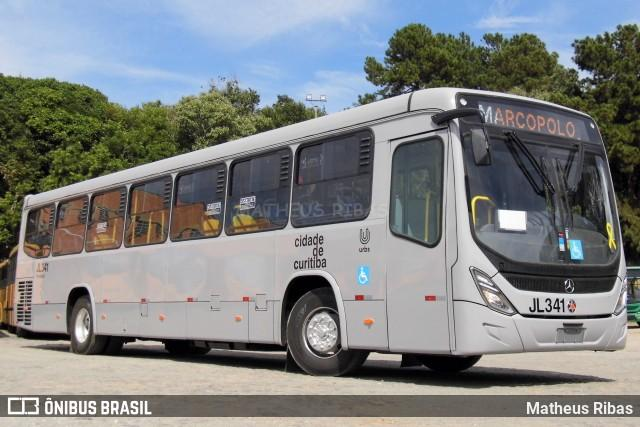ARCOPOLO: (493, 104, 580, 141)
